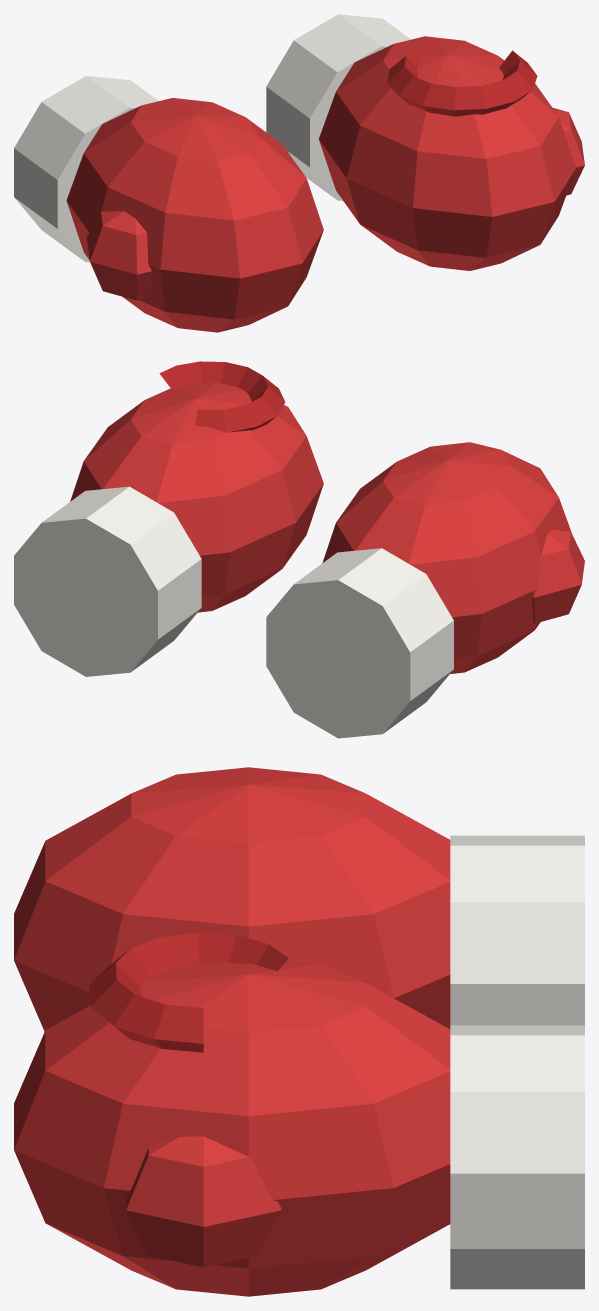
The model's file is gym_horseshoe_gloves.glb.
3 views of the same model, one above another, from view 1: azimuth 30°, elevation 25°; view 2: azimuth 150°, elevation 25°; view 3: azimuth 270°, elevation 25° (orthographic). The views are drawn at different scales.
Visible parts, largest first — view 1: gloves_glove_red, cuffs_glove_cuff, horseshoe_glove_bulge; view 2: gloves_glove_red, cuffs_glove_cuff, horseshoe_glove_bulge; view 3: gloves_glove_red, cuffs_glove_cuff, horseshoe_glove_bulge.
Boxes of the visible parts, x1,y1,x2,y2 form: gloves_glove_red: [66, 36, 584, 332]; cuffs_glove_cuff: [14, 14, 410, 262]; horseshoe_glove_bulge: [387, 46, 537, 116]; gloves_glove_red: [70, 382, 584, 673]; cuffs_glove_cuff: [14, 486, 453, 738]; horseshoe_glove_bulge: [159, 361, 285, 432]; gloves_glove_red: [14, 767, 450, 1296]; cuffs_glove_cuff: [450, 835, 584, 1289]; horseshoe_glove_bulge: [89, 932, 288, 1052].
Size of the model in its own units: 0.39 by 0.152 by 0.2546.
